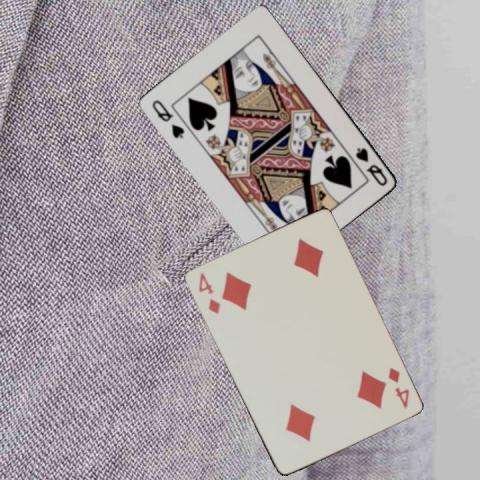4d: (195, 270, 221, 316), (384, 364, 410, 410)
Qs: (149, 97, 187, 140), (353, 145, 390, 187)
